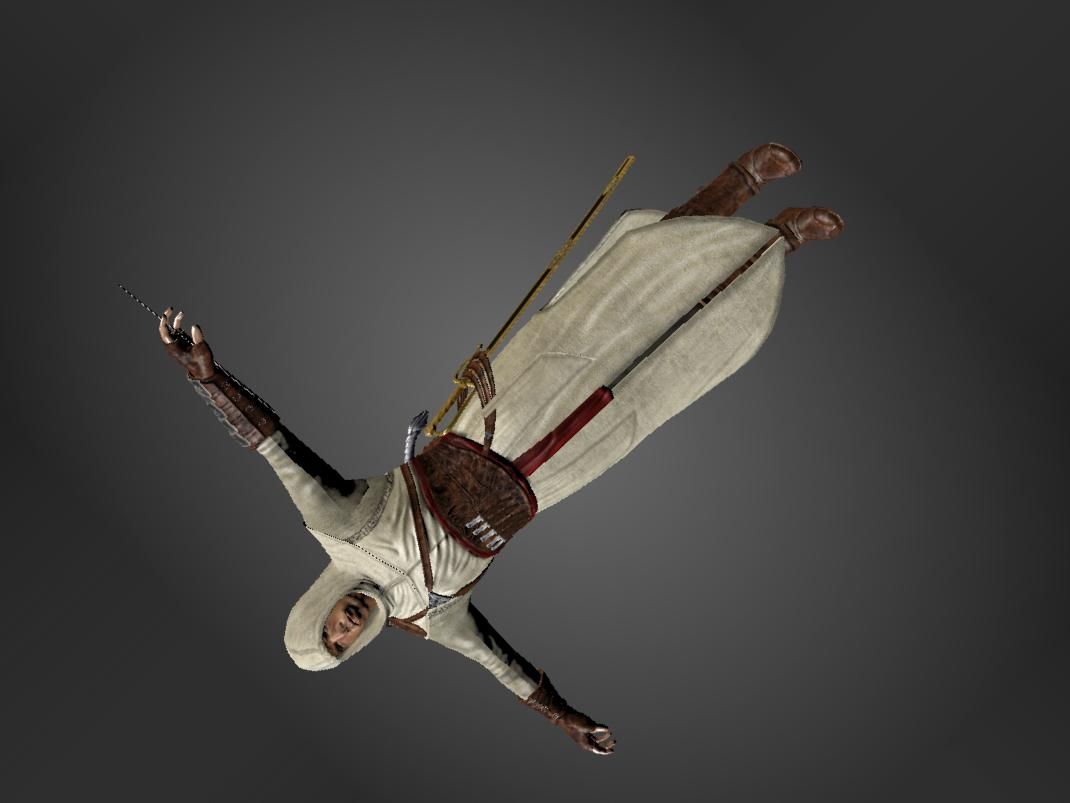clip: (475, 402, 513, 424)
